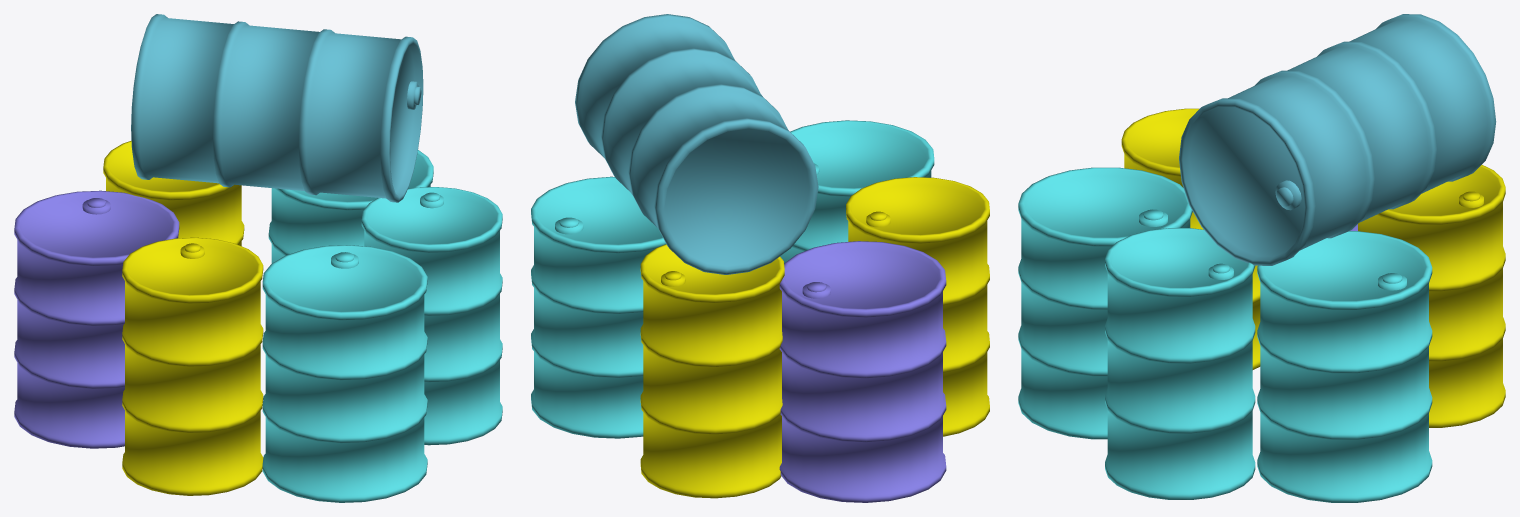
File: barrel.fbx
3 renders of one model, left to right at view 1: azimuth 30°, elevation 25°; view 2: azimuth 150°, elevation 25°; view 3: azimuth 270°, elevation 25°, orthographic. The views are drawn at different scales.
Parts seen in each view (by area): view 1: barrel; view 2: barrel; view 3: barrel.
Boxes of the visible parts, x1=… form: barrel: x1=14, y1=14, x2=502, y2=502; barrel: x1=531, y1=14, x2=989, y2=502; barrel: x1=1018, y1=14, x2=1505, y2=502.
Bounding box in the file's own units: 5.9 × 5.01 × 6.03.
